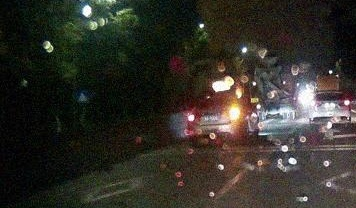L_light: (311, 100, 322, 107), (187, 114, 195, 122)
R_light: (337, 99, 351, 106), (229, 109, 239, 117)
T_light: (217, 96, 226, 99), (326, 92, 334, 94)
night-no: (309, 90, 351, 123)
night-right: (186, 93, 242, 146)
